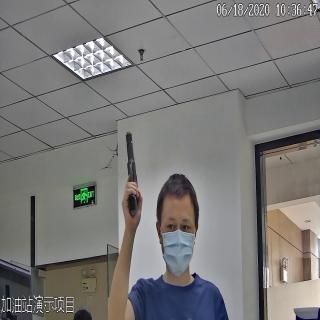gun: (119, 132, 145, 216)
